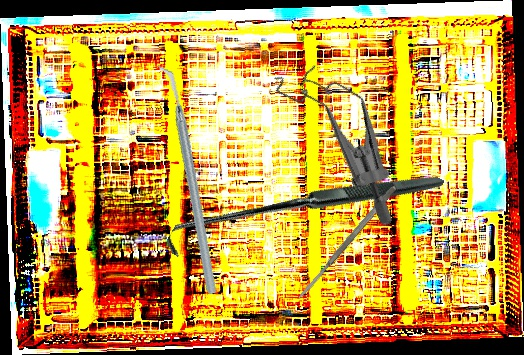Chopper: (110, 62, 264, 295)
Hook Surgical: (162, 75, 445, 354)
Spatula Surgical: (294, 184, 399, 302)
Speculum: (237, 49, 441, 229)
